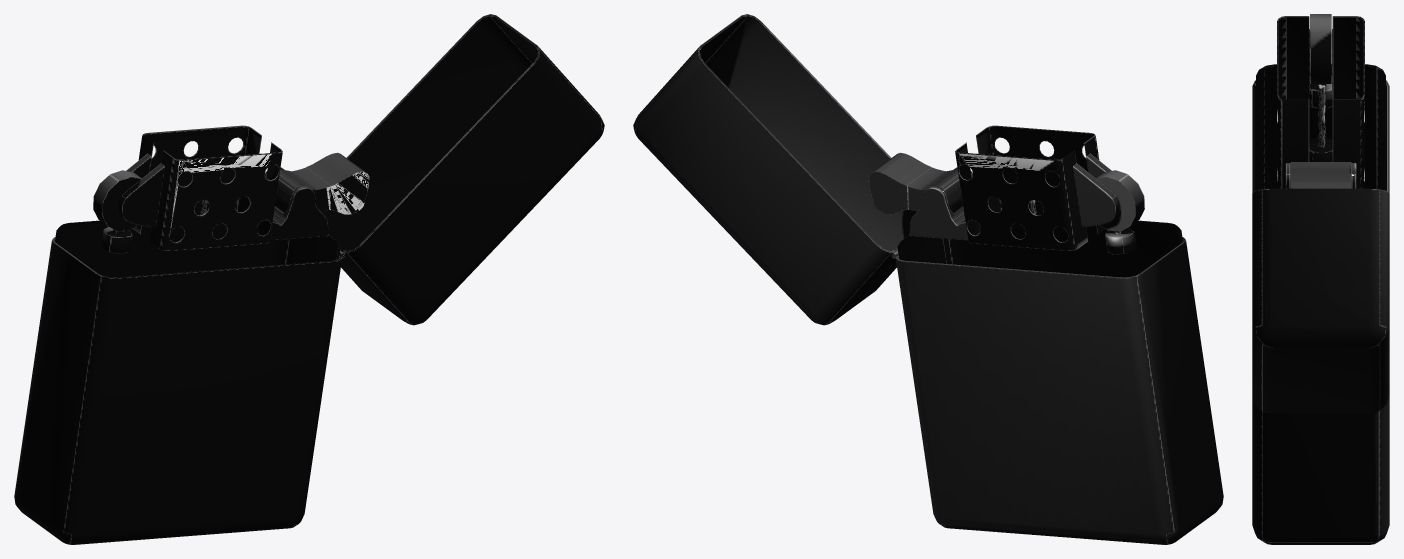
The model's file is jiga.glb.
The picture shows the model from 3 angles, left to right: view 1: azimuth 30°, elevation 25°; view 2: azimuth 150°, elevation 25°; view 3: azimuth 270°, elevation 25°; orthographic projection. The views are drawn at different scales.
Visible parts, largest first — view 1: Выдавливание; view 2: Выдавливание; view 3: Выдавливание.
Part boxes in pixels (left/top/right/bottom): Выдавливание: left=14, top=14, right=604, bottom=544; Выдавливание: left=633, top=14, right=1223, bottom=544; Выдавливание: left=1252, top=14, right=1389, bottom=544.
Bounding box in the file's own units: 8.48 × 6.25 × 1.56.
1 material, 1 textured.
